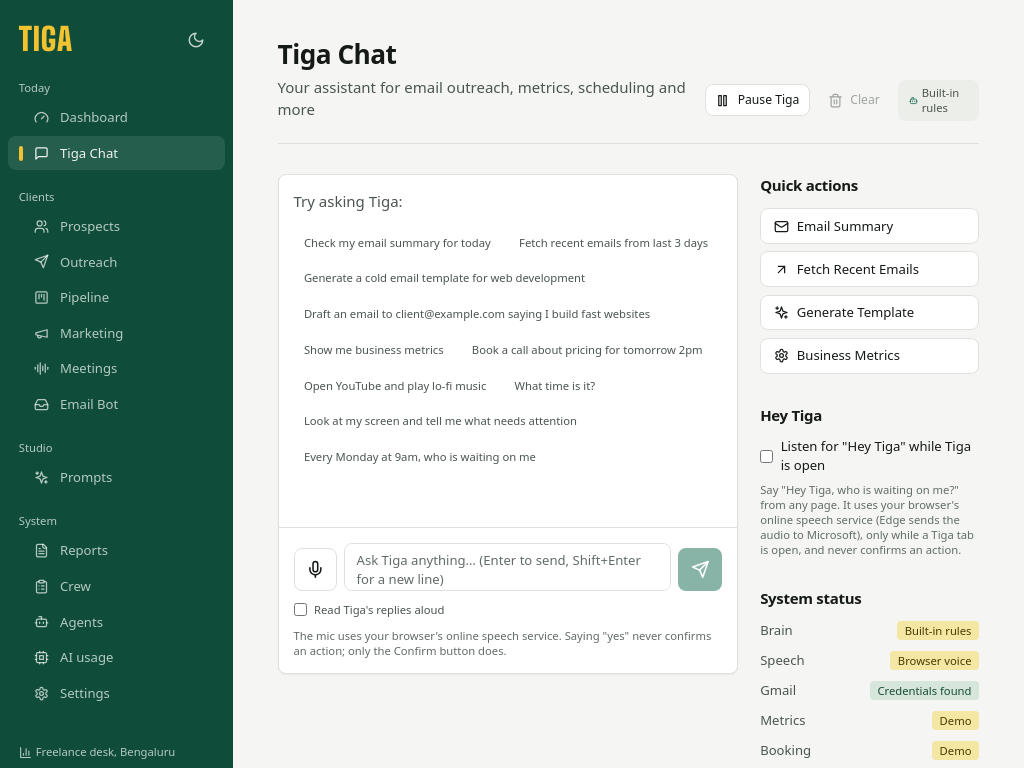
Test case: Chat › shows the error and gives the text back when sending fails
In the text box named "message": (508, 567) [344,543,671,591], type "hello there"
Then press Enter
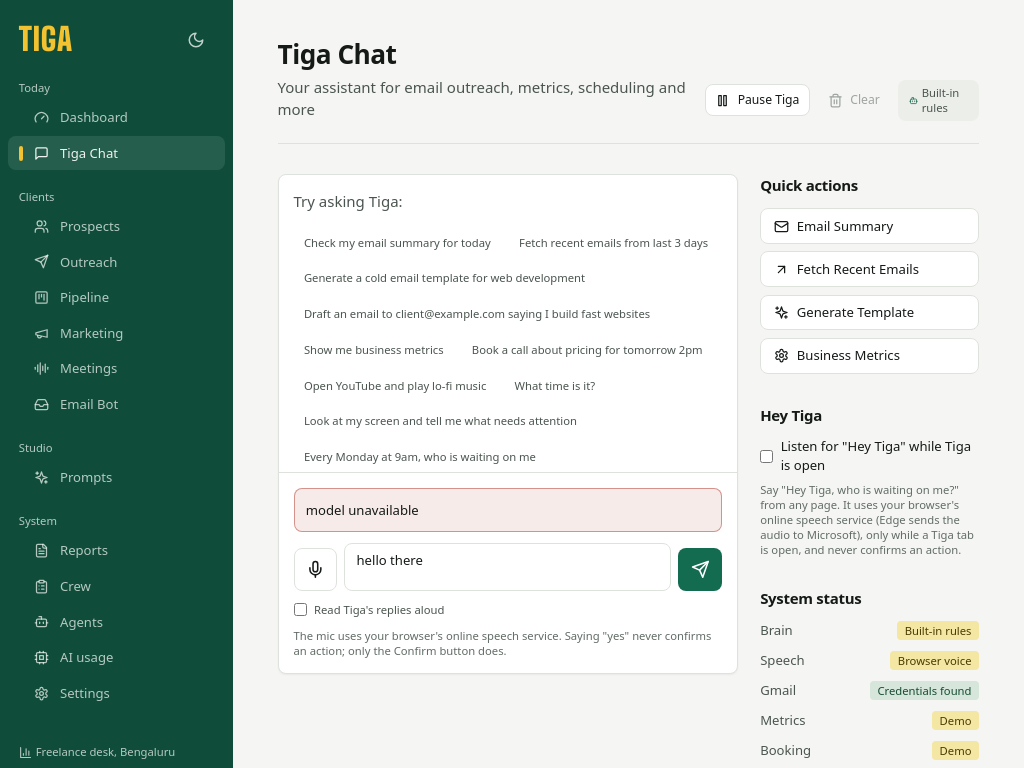
Expected: the message reads "model unavailable", [306,501,419,519]
